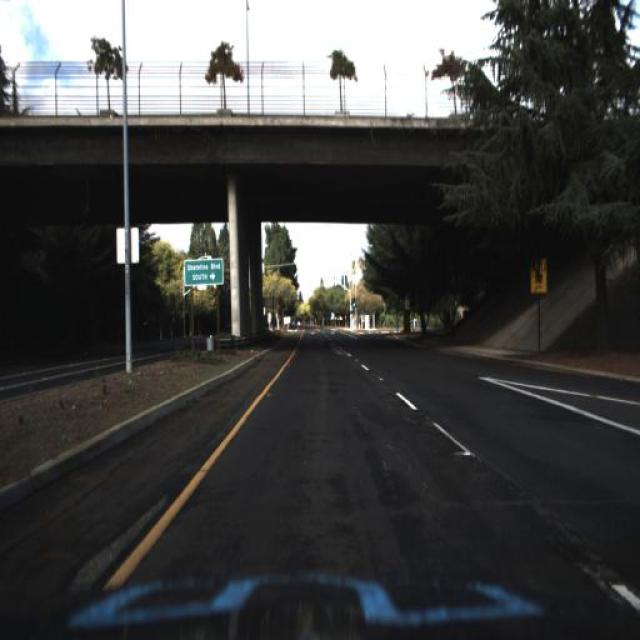trafficLight-GreenLeft: (352, 298, 356, 308), (320, 279, 324, 289)
